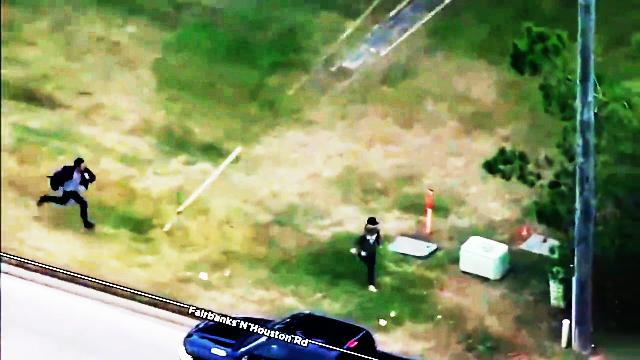berlari: (38, 154, 100, 233), (350, 207, 386, 293)
